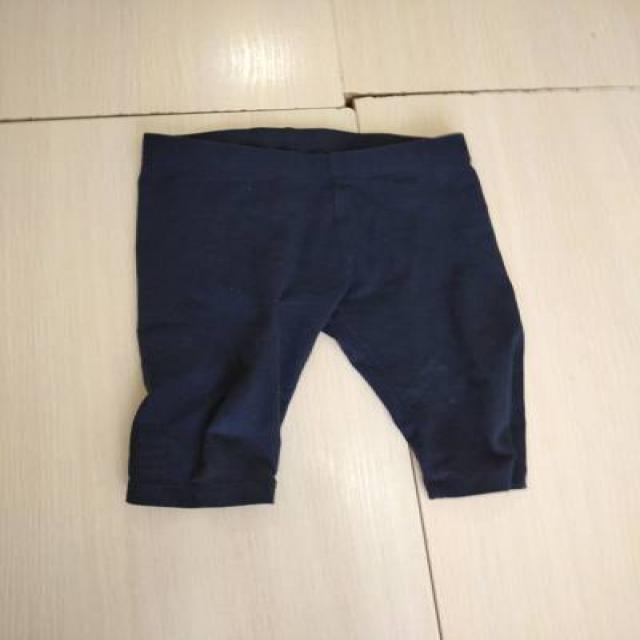Clothes -Biodegradable-: (123, 121, 529, 504)
